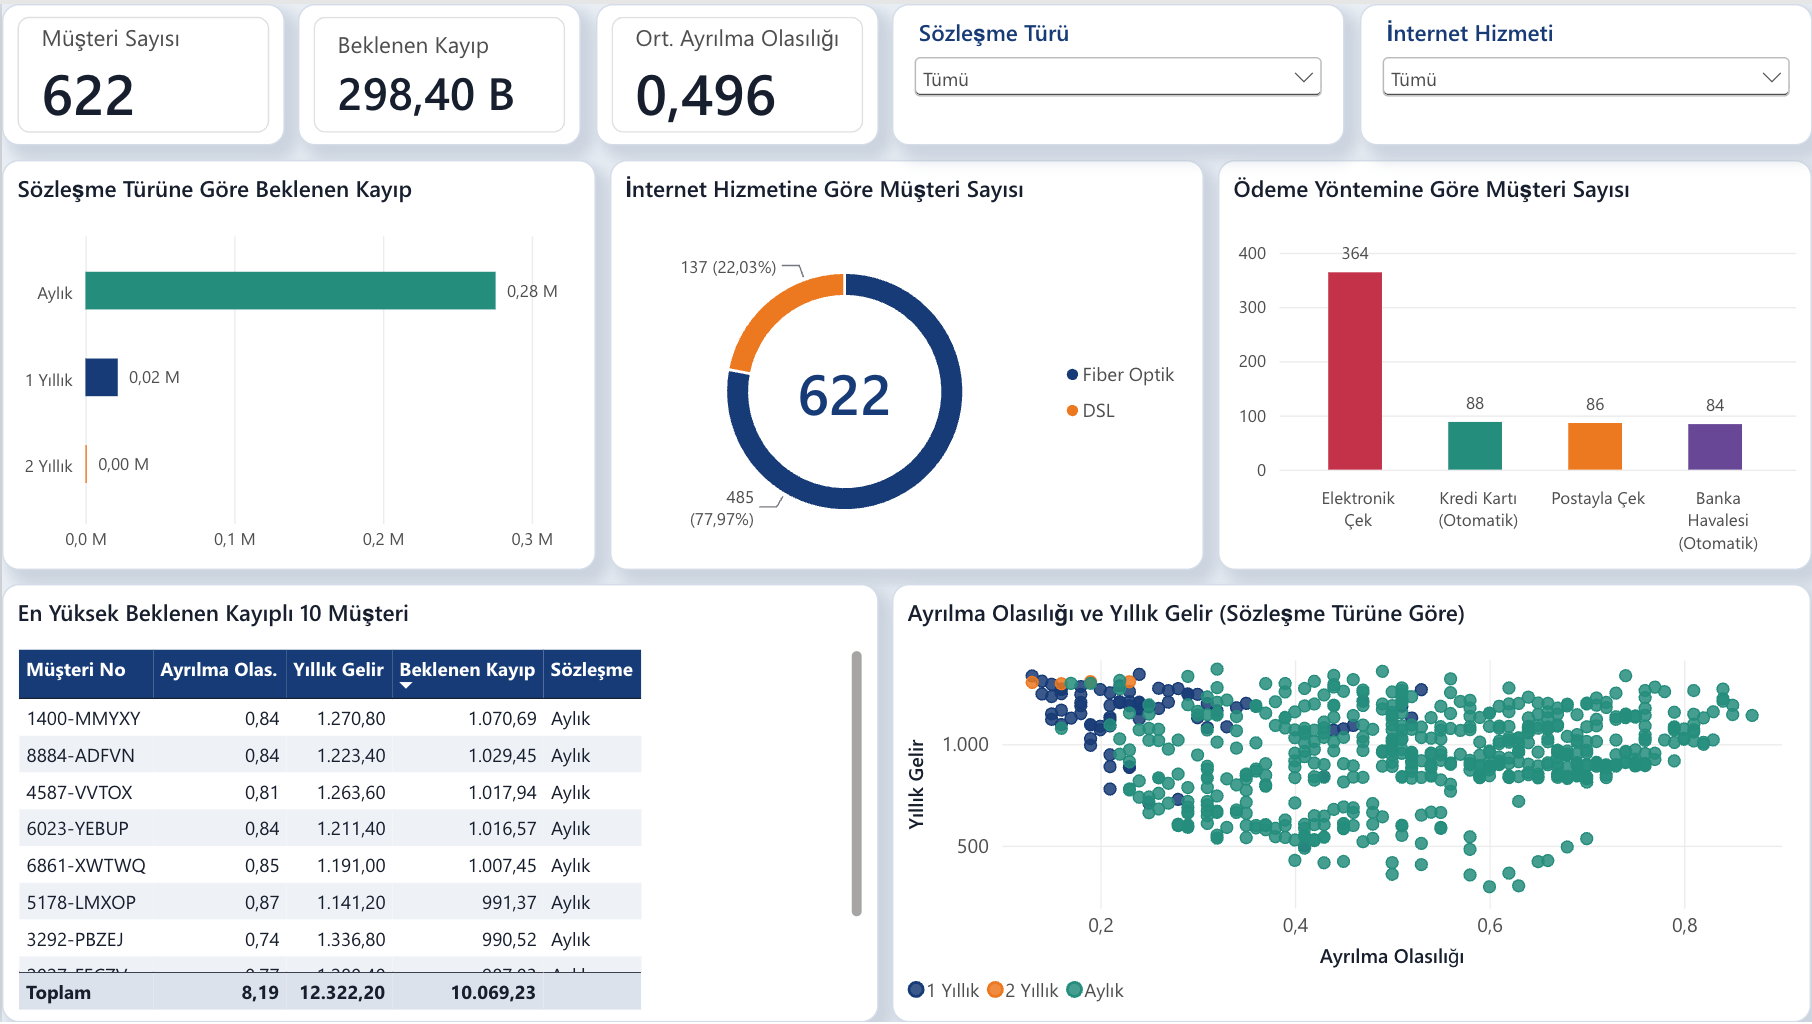

The page's visual inventory and layout, read from the dashboard file:
{"tool":"powerbi","page":{"name":"1. sayfa","canvas":[1280,720],"ordinal":0},"visuals":[{"type":"cardVisual","fields":{"Data":["CountNonNull(teklif_listesi.customerID)"]},"box":[0,0,200,100],"z":0},{"type":"cardVisual","fields":{"Data":["Sum(teklif_listesi.expected_loss)"]},"box":[210,0,200,100],"z":1},{"type":"cardVisual","fields":{"Data":["Avg(teklif_listesi.churn_probability)"]},"box":[420,0,200,100],"z":2},{"type":"clusteredBarChart","title":"Sözleşme Türüne Göre Beklenen Kayıp","fields":{"Category":["teklif_listesi.Sözleşme Türü"],"Y":["Sum(teklif_listesi.expected_loss)"]},"box":[0,110,420,290],"z":3},{"type":"donutChart","title":"İnternet Hizmetine Göre Müşteri Sayısı","fields":{"Category":["teklif_listesi.İnternet Hizmeti"],"Y":["CountNonNull(teklif_listesi.customerID)"]},"box":[430,110,420,290],"z":4},{"type":"clusteredColumnChart","title":"Ödeme Yöntemine Göre Müşteri Sayısı","fields":{"Category":["teklif_listesi.Ödeme Yöntemi"],"Y":["CountNonNull(teklif_listesi.customerID)"]},"box":[860,110,420,290],"z":5},{"type":"tableEx","title":"En Yüksek Beklenen Kayıplı 10 Müşteri","fields":{"Values":["teklif_listesi.customerID","Sum(teklif_listesi.churn_probability)","Sum(teklif_listesi.yearly_revenue)","Sum(teklif_listesi.expected_loss)","teklif_listesi.Sözleşme Türü"]},"box":[0,410,620,310],"z":6},{"type":"scatterChart","title":"Ayrılma Olasılığı ve Yıllık Gelir (Sözleşme Türüne Göre)","fields":{"Category":["teklif_listesi.customerID"],"Series":["teklif_listesi.Sözleşme Türü"],"X":["Sum(teklif_listesi.churn_probability)"],"Y":["Sum(teklif_listesi.yearly_revenue)"]},"box":[630,410,650,310],"z":7},{"type":"slicer","fields":{"Values":["teklif_listesi.Sözleşme Türü"]},"box":[630,0,320,100],"z":8},{"type":"slicer","fields":{"Values":["teklif_listesi.İnternet Hizmeti"]},"box":[960,0,320,100],"z":9}]}

Visuals, with their boxes in screenshot pixels (x1, y1, x2, y2), scaled from the page's 1280x720 canvas onto the 1812x1024 screenshot:
cardVisual - CountNonNull(teklif_listesi.customerID): pyautogui.locateOnScreen(0, 0, 283, 142)
cardVisual - Sum(teklif_listesi.expected_loss): pyautogui.locateOnScreen(297, 0, 580, 142)
cardVisual - Avg(teklif_listesi.churn_probability): pyautogui.locateOnScreen(595, 0, 878, 142)
"Sözleşme Türüne Göre Beklenen Kayıp" clusteredBarChart: pyautogui.locateOnScreen(0, 156, 595, 569)
"İnternet Hizmetine Göre Müşteri Sayısı" donutChart: pyautogui.locateOnScreen(609, 156, 1203, 569)
"Ödeme Yöntemine Göre Müşteri Sayısı" clusteredColumnChart: pyautogui.locateOnScreen(1217, 156, 1811, 569)
"En Yüksek Beklenen Kayıplı 10 Müşteri" tableEx: pyautogui.locateOnScreen(0, 583, 878, 1023)
"Ayrılma Olasılığı ve Yıllık Gelir (Sözleşme Türüne Göre)" scatterChart: pyautogui.locateOnScreen(892, 583, 1811, 1023)
slicer - teklif_listesi.Sözleşme Türü: pyautogui.locateOnScreen(892, 0, 1345, 142)
slicer - teklif_listesi.İnternet Hizmeti: pyautogui.locateOnScreen(1359, 0, 1811, 142)
